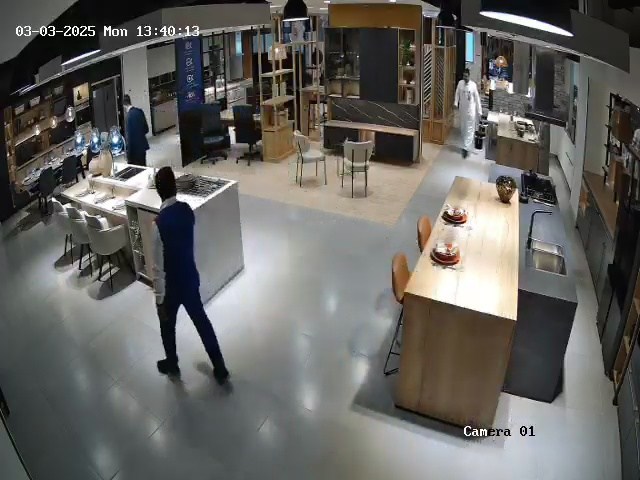employee: (153, 166, 232, 387), (123, 94, 150, 167)
male: (453, 68, 483, 159)
